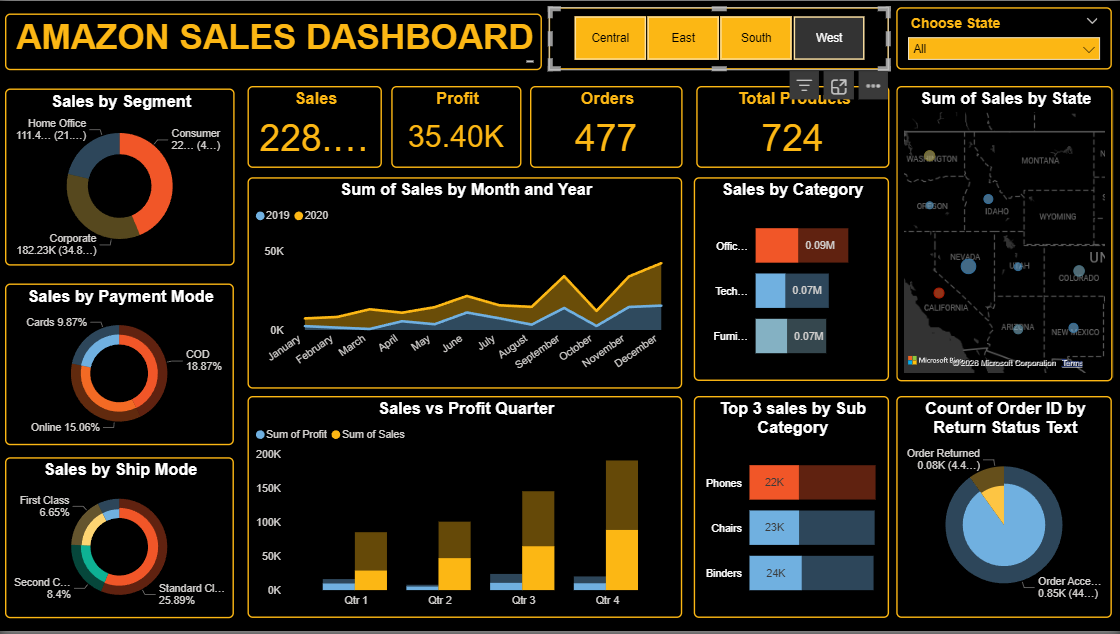

Layout of this report page (visuals, bound fields, positions):
{"tool":"powerbi","page":{"name":"Page 1","canvas":[1280,720],"ordinal":0},"visuals":[{"type":"clusteredBarChart","title":" Sales by Category","fields":{"Category":["Amazon Store Sales Data xlsx - Sheet1 (1).Category"],"Y":["Sum(Amazon Store Sales Data xlsx - Sheet1 (1).Sales)"]},"box":[792.6,201.2,223.3,233.1],"z":0},{"type":"donutChart","title":"Sales by Segment","fields":{"Category":["Amazon Store Sales Data xlsx - Sheet1 (1).Segment"],"Y":["Sum(Amazon Store Sales Data xlsx - Sheet1 (1).Sales)"]},"box":[6.2,100,262.5,202.5],"z":1000},{"type":"barChart","title":"Top 3 sales by Sub Category","fields":{"Category":["Amazon Store Sales Data xlsx - Sheet1 (1).Sub-Category"],"Y":["Sum(Amazon Store Sales Data xlsx - Sheet1 (1).Sales)"],"Series":["Amazon Store Sales Data xlsx - Sheet1 (1).Sub-Category"]},"box":[792.6,451.5,223.3,254],"z":2000},{"type":"textbox","title":"AMAZON SALES DASHBOARD","box":[6.2,13.8,613.8,65],"z":3000},{"type":"donutChart","title":"Sales by Payment Mode","fields":{"Category":["Amazon Store Sales Data xlsx - Sheet1 (1).Payment Mode"],"Y":["Sum(Amazon Store Sales Data xlsx - Sheet1 (1).Sales)"]},"box":[6.2,322.5,261.2,185],"z":4000},{"type":"donutChart","title":" Sales by Ship Mode","fields":{"Category":["Amazon Store Sales Data xlsx - Sheet1 (1).Ship Mode"],"Y":["Sum(Amazon Store Sales Data xlsx - Sheet1 (1).Sales)"]},"box":[5.7,521.4,261.4,184.3],"z":5000},{"type":"card","title":"Sales","fields":{"Values":["Sum(Amazon Store Sales Data xlsx - Sheet1 (1).Sales)"]},"box":[283.4,96.9,153.4,93.3],"z":6000},{"type":"card","title":"Profit","fields":{"Values":["Sum(Amazon Store Sales Data xlsx - Sheet1 (1).Profit)"]},"box":[447.9,96.9,148.5,93.3],"z":7000},{"type":"card","title":"Orders","fields":{"Values":["Amazon Store Sales Data xlsx - Sheet1 (1).Orders"]},"box":[606.1,96.9,174.2,93.3],"z":8000},{"type":"card","title":"Total Products","fields":{"Values":["Amazon Store Sales Data xlsx - Sheet1 (1).Total Products"]},"box":[795.1,96.9,220.9,93.3],"z":9000},{"type":"map","title":"Sum of Sales by State","fields":{"Category":["Amazon Store Sales Data xlsx - Sheet1 (1).State"],"Size":["Avg(Amazon Store Sales Data xlsx - Sheet1 (1).Sales)"]},"box":[1023.8,97.5,247.5,337.5],"z":10000},{"type":"stackedAreaChart","fields":{"Category":["Amazon Store Sales Data xlsx - Sheet1 (1).Order Date.Variation.Date Hierarchy.Month"],"Y":["Sum(Amazon Store Sales Data xlsx - Sheet1 (1).Sales)"],"Series":["Amazon Store Sales Data xlsx - Sheet1 (1).Order Date.Variation.Date Hierarchy.Year"]},"box":[283.4,201.2,496.9,241.7],"z":11000},{"type":"clusteredColumnChart","title":"Sales vs Profit Quarter","fields":{"Category":["Amazon Store Sales Data xlsx - Sheet1 (1).Order Date.Variation.Date Hierarchy.Quarter"],"Y":["Sum(Amazon Store Sales Data xlsx - Sheet1 (1).Profit)","Sum(Amazon Store Sales Data xlsx - Sheet1 (1).Sales)"]},"box":[283.4,451.5,496.9,254],"z":12000},{"type":"pieChart","fields":{"Y":["CountNonNull(Amazon Store Sales Data xlsx - Sheet1 (1).Order ID)"],"Category":["Amazon Store Sales Data xlsx - Sheet1 (1).Return Status Text"]},"box":[1024,452,246.7,253.3],"z":13000},{"type":"slicer","fields":{"Values":["Amazon Store Sales Data xlsx - Sheet1 (1).Region"]},"box":[627.5,7.5,388.8,71.2],"z":14000},{"type":"slicer","fields":{"Values":["Amazon Store Sales Data xlsx - Sheet1 (1).State"]},"box":[1023.8,7.5,246.2,71.2],"z":14001}]}

Visuals, with their boxes in screenshot pixels (x1, y1, x2, y2), scaled from the page's 1280x720 canvas onto the 1120x634 screenshot:
" Sales by Category" clusteredBarChart: [left=694, top=177, right=889, bottom=382]
"Sales by Segment" donutChart: [left=5, top=88, right=235, bottom=266]
"Top 3 sales by Sub Category" barChart: [left=694, top=398, right=889, bottom=621]
"AMAZON SALES DASHBOARD" textbox: [left=5, top=12, right=542, bottom=69]
"Sales by Payment Mode" donutChart: [left=5, top=284, right=234, bottom=447]
" Sales by Ship Mode" donutChart: [left=5, top=459, right=234, bottom=621]
"Sales" card: [left=248, top=85, right=382, bottom=167]
"Profit" card: [left=392, top=85, right=522, bottom=167]
"Orders" card: [left=530, top=85, right=683, bottom=167]
"Total Products" card: [left=696, top=85, right=889, bottom=167]
"Sum of Sales by State" map: [left=896, top=86, right=1112, bottom=383]
stackedAreaChart - Amazon Store Sales Data xlsx - Sheet1 (1).Order Date.Variation.Date Hierarchy.Month x Sum(Amazon Store Sales Data xlsx - Sheet1 (1).Sales): [left=248, top=177, right=683, bottom=390]
"Sales vs Profit Quarter" clusteredColumnChart: [left=248, top=398, right=683, bottom=621]
pieChart - CountNonNull(Amazon Store Sales Data xlsx - Sheet1 (1).Order ID) x Amazon Store Sales Data xlsx - Sheet1 (1).Return Status Text: [left=896, top=398, right=1112, bottom=621]
slicer - Amazon Store Sales Data xlsx - Sheet1 (1).Region: [left=549, top=7, right=889, bottom=69]
slicer - Amazon Store Sales Data xlsx - Sheet1 (1).State: [left=896, top=7, right=1111, bottom=69]
